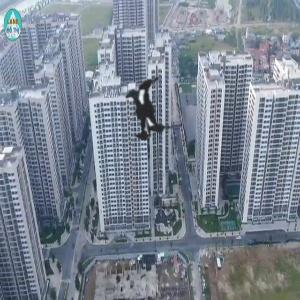drone: (58, 24, 237, 203)
